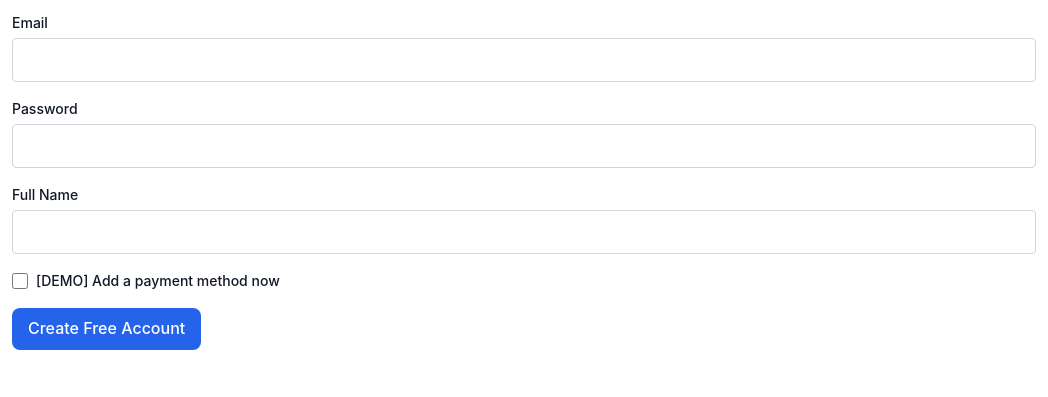
Test: <RegisterForm /> › when submitted with an empty full name › should show a full name required error
Type "traveler@example.com" into the field labelled "Email" at (524, 60), box [12,38,1036,82]
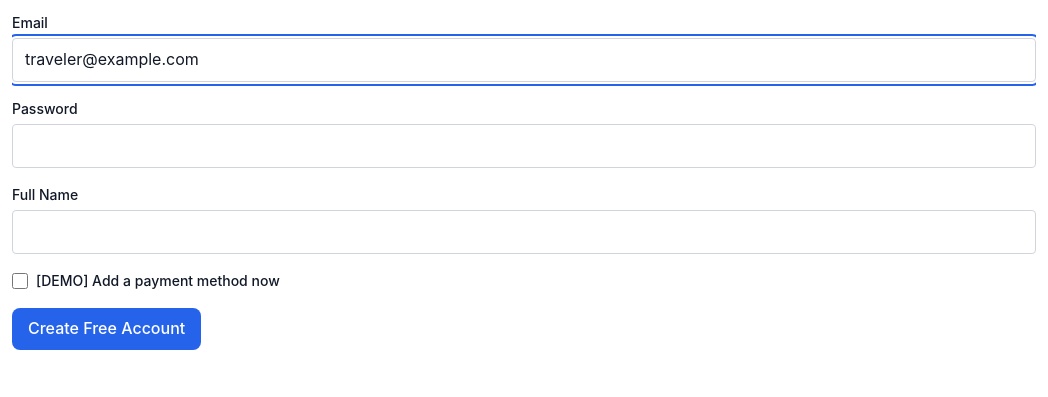
Type "CorrectHorse1!" into the password field labelled "Password" at (524, 146), box [12,124,1036,168]
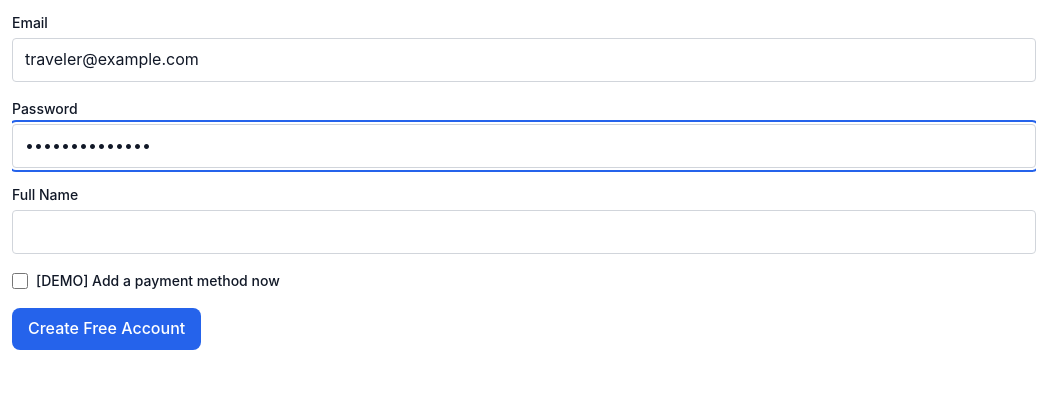
Click the button "Create Free Account" at (107, 329), box [12,308,201,350]
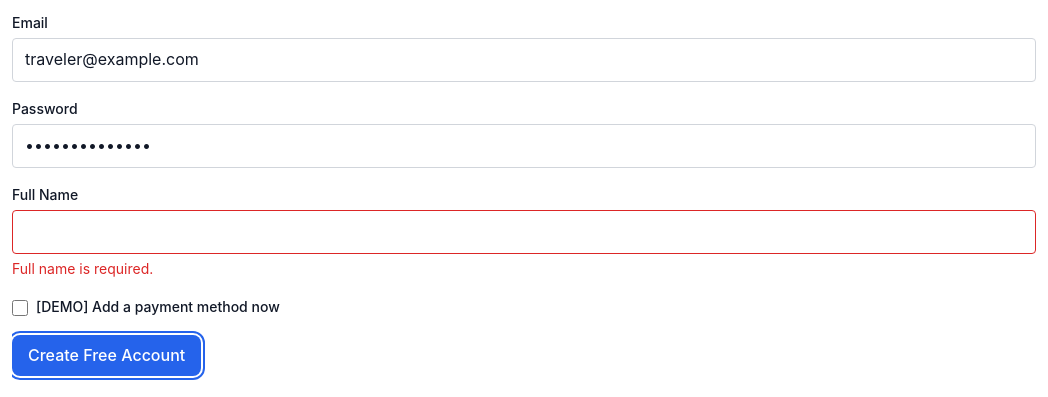
Expected: the text "Full name is required." is shown, [12,260,153,277]
